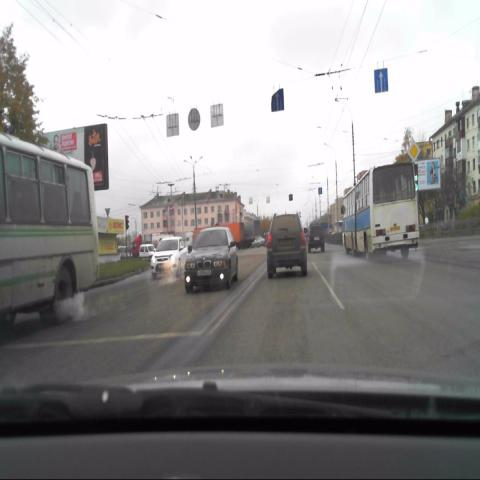2_1: (407, 139, 421, 162)
5_15_2: (373, 67, 389, 92), (272, 90, 285, 113)
